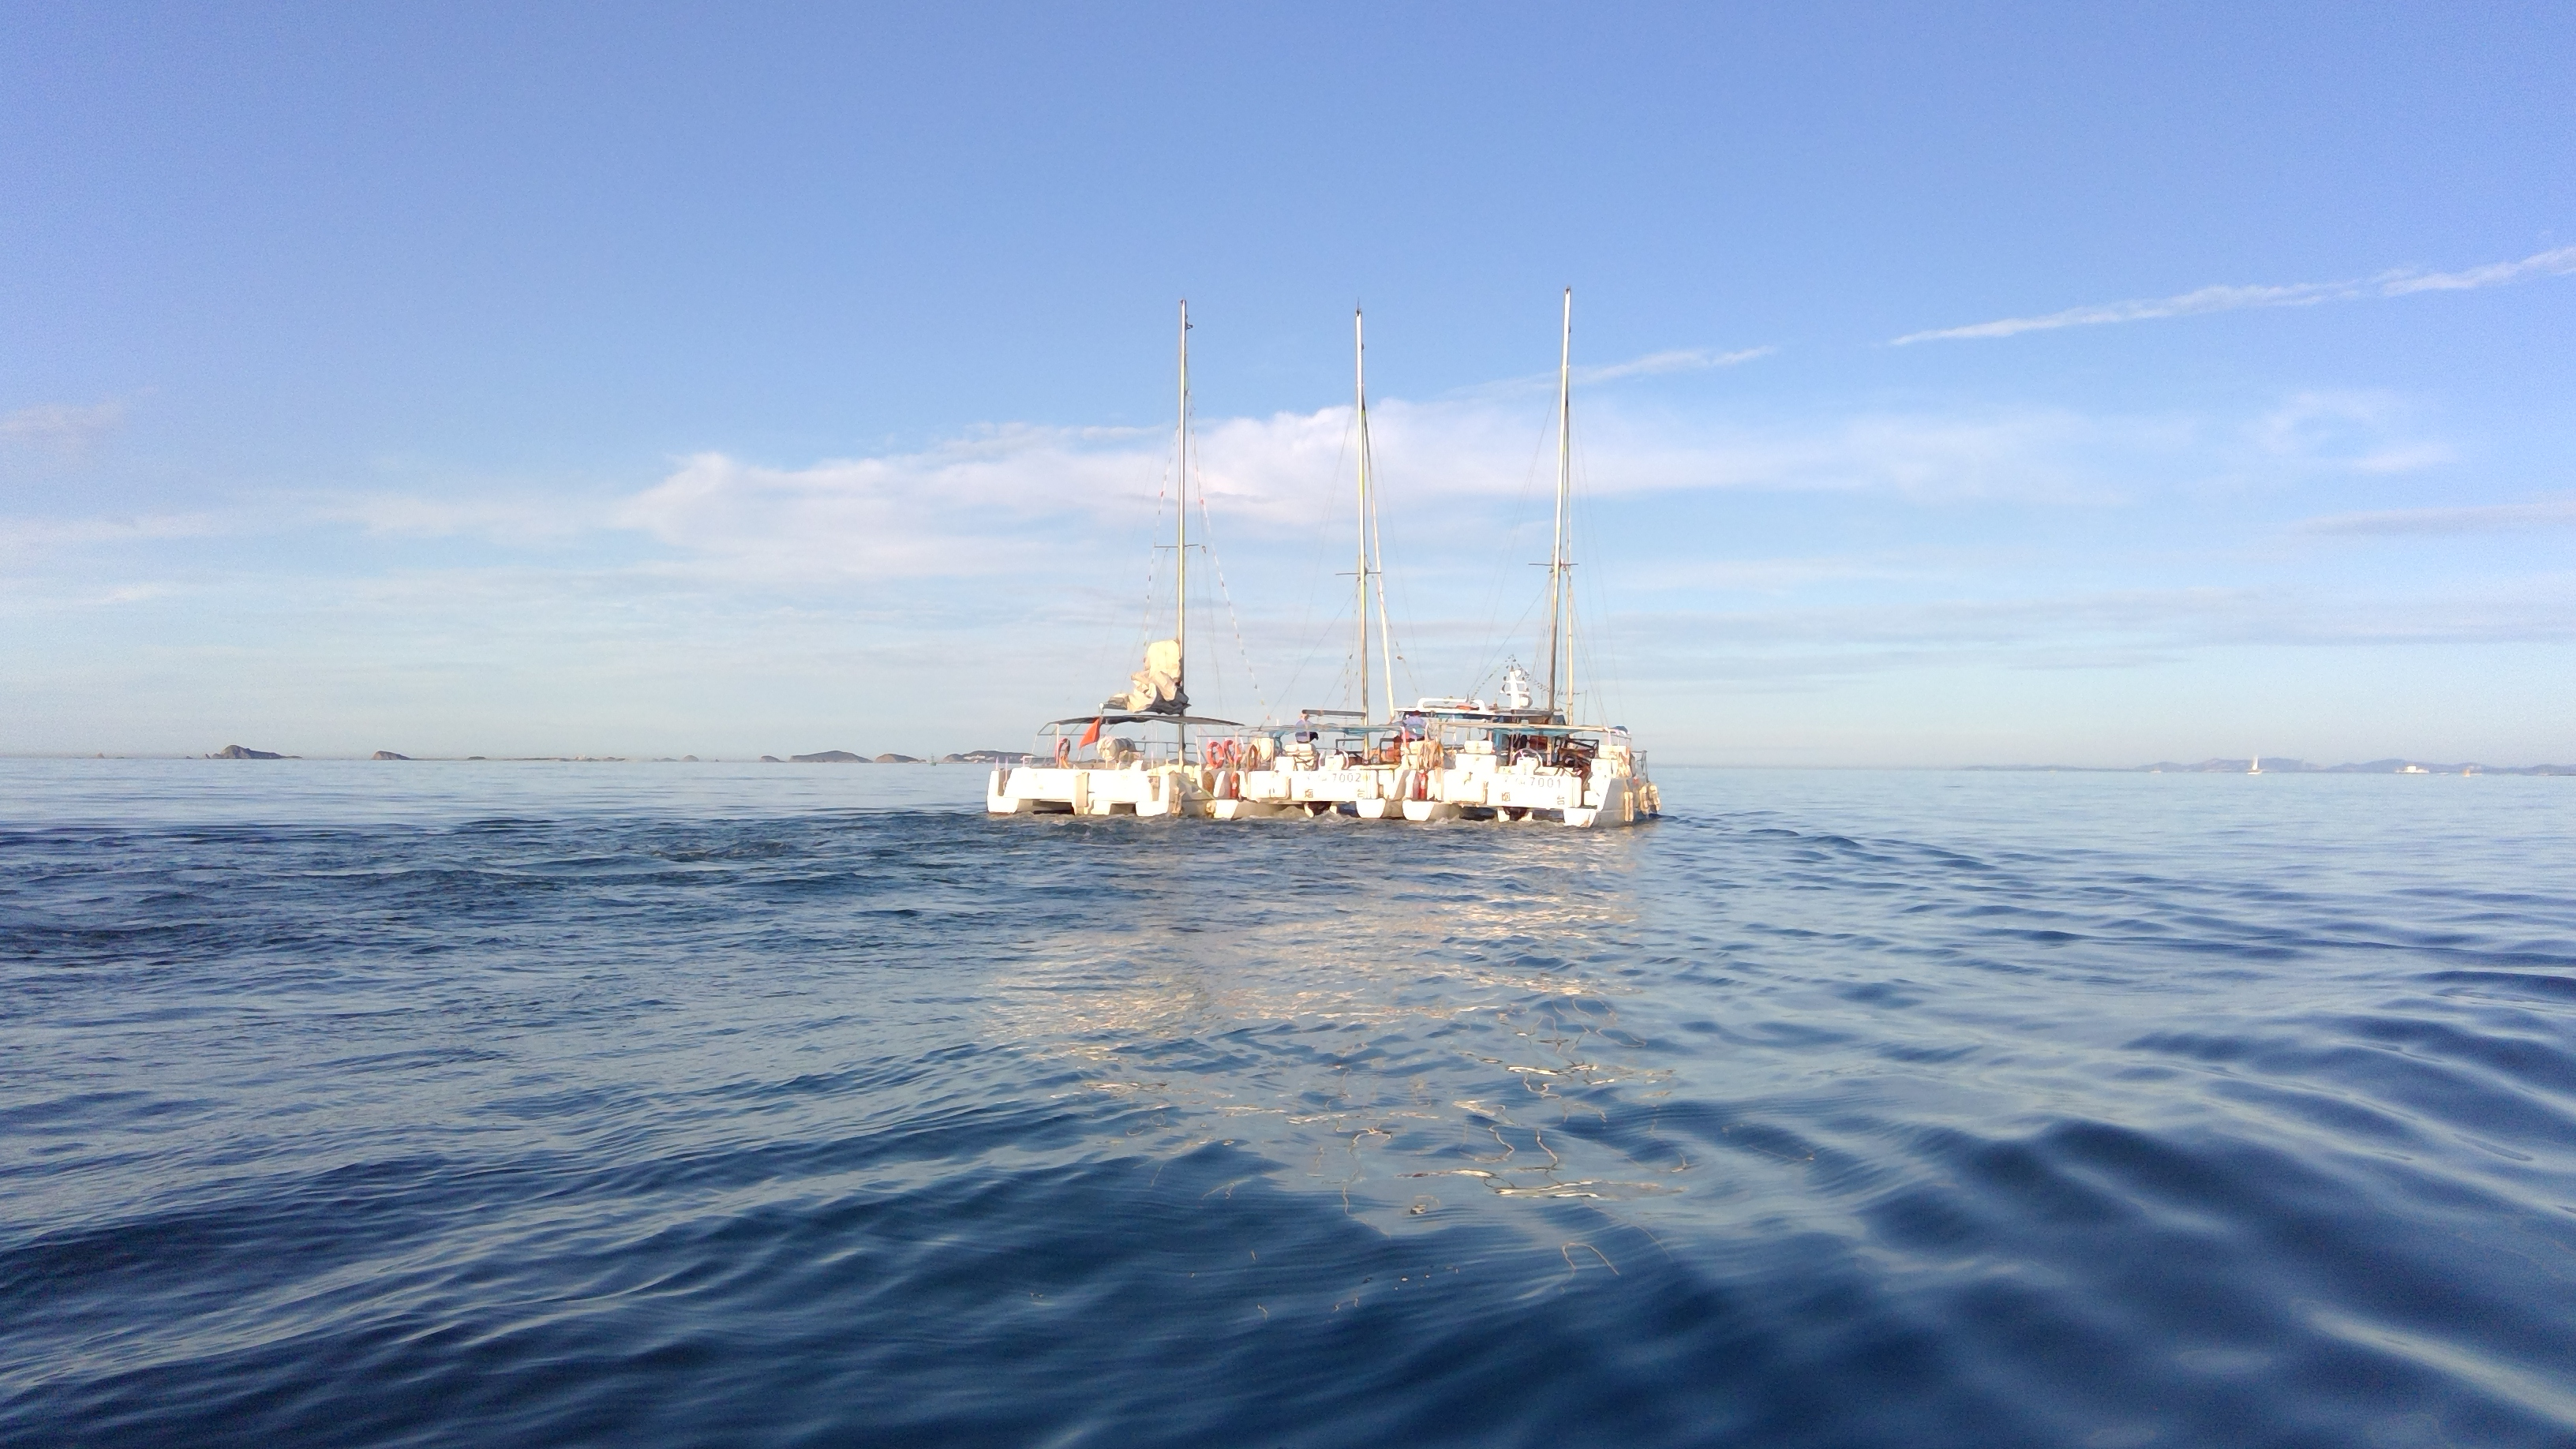boat: (952, 258, 1254, 846), (1442, 154, 1690, 849), (1265, 223, 1447, 893)
